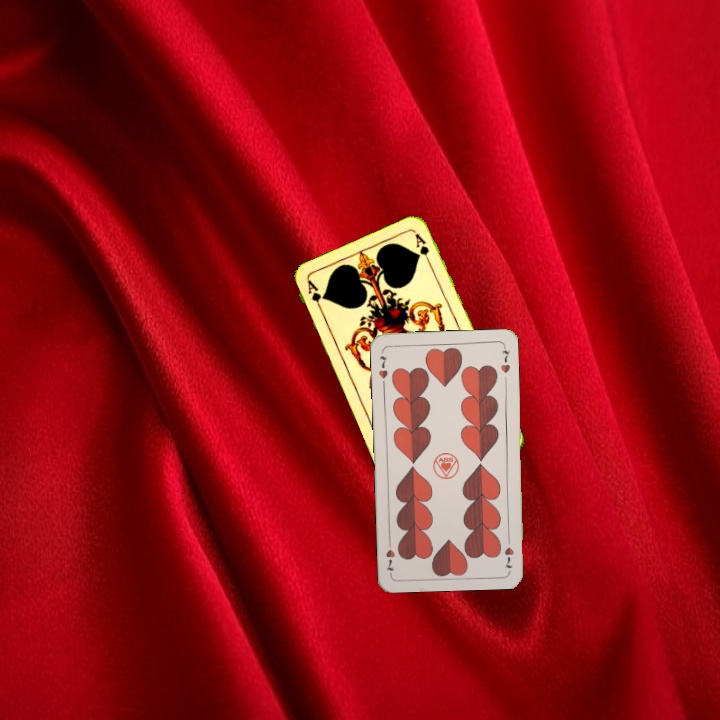GA: (303, 276, 326, 315)
H7: (501, 532, 516, 573), (374, 352, 390, 381)
